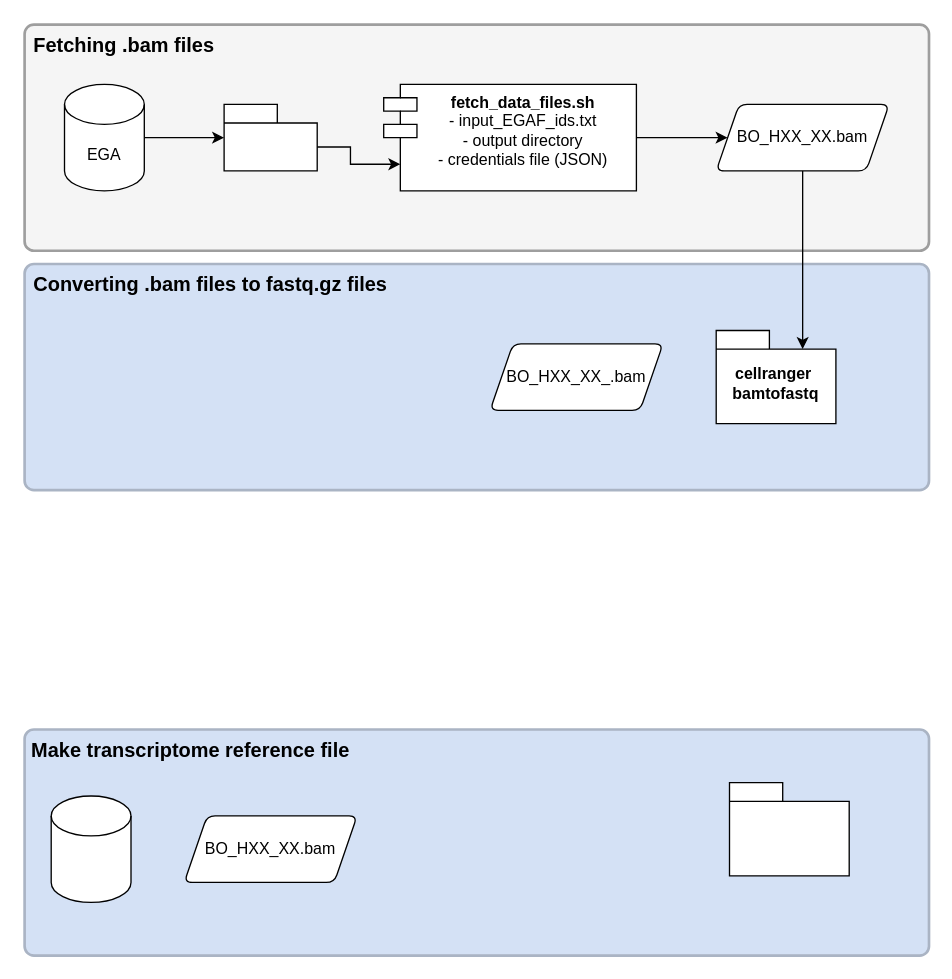
This 952x979 diagram has some shape labels left out. Here are the shapes that lost their labels. From the top down, the centre of each, then its label:
(270,137): pyega3
(90,848): Ensembl
(788,828): cellranger mkref
